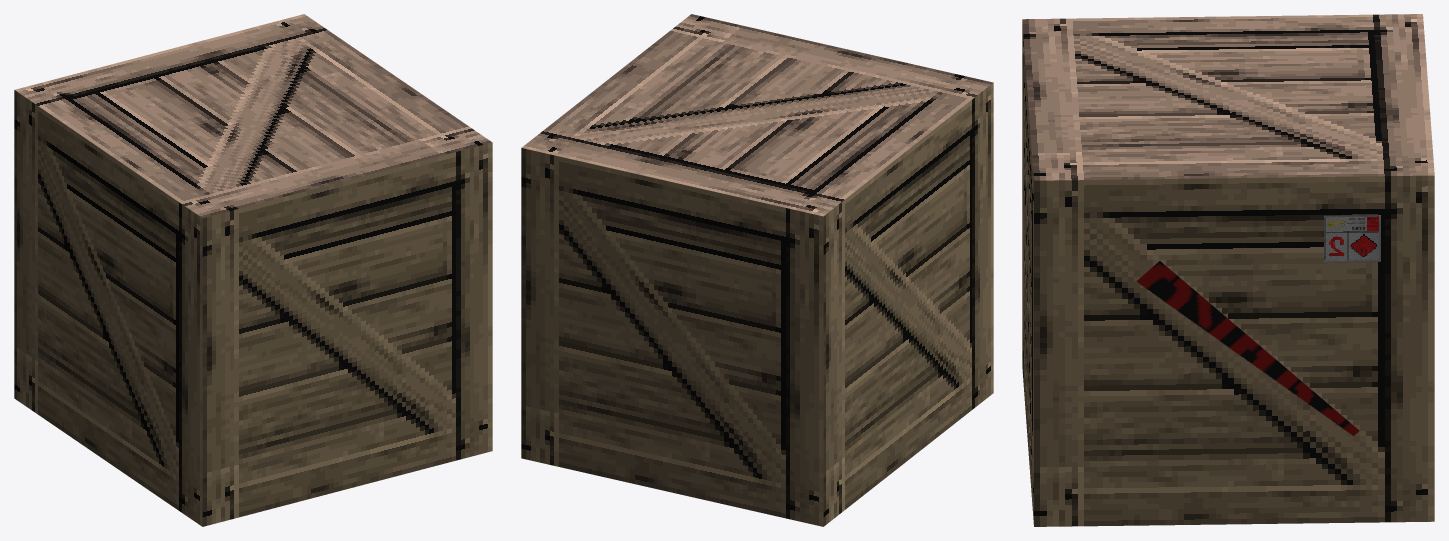
The model's file is primary_133.glb.
3 views of the same model, side by side, from view 1: azimuth 30°, elevation 25°; view 2: azimuth 150°, elevation 25°; view 3: azimuth 270°, elevation 25° (orthographic). The views are drawn at different scales.
Parts seen in each view (by area): view 1: Object; view 2: Object; view 3: Object.
Boxes of the visible parts, x1,y1,x2,y2 form: Object: (14,14,492,526); Object: (521,14,993,526); Object: (1022,14,1434,526).
Size of the model in its own units: 1 by 0.9682 by 1.05.
7 materials, 7 textured.
